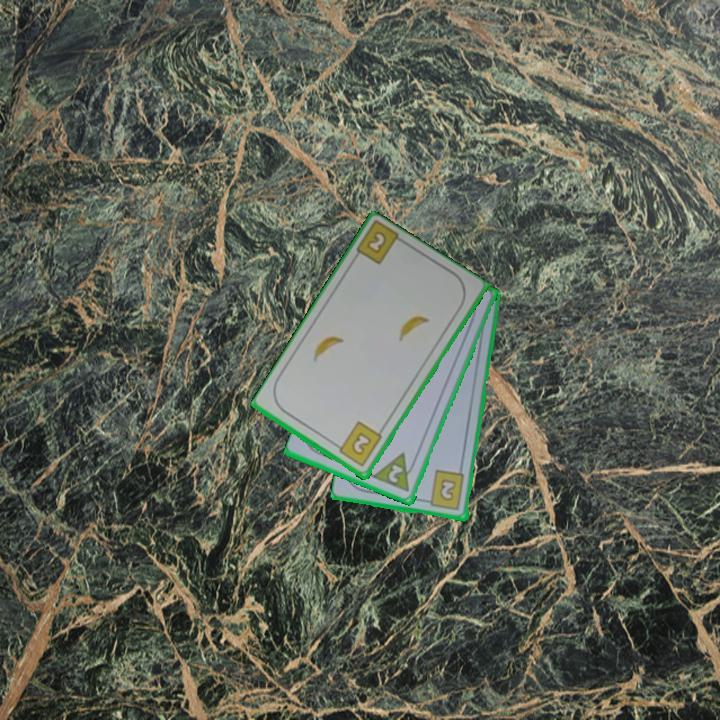2b: (331, 418, 385, 470), (421, 468, 467, 513), (363, 228, 390, 257)
2p: (385, 461, 406, 486)
